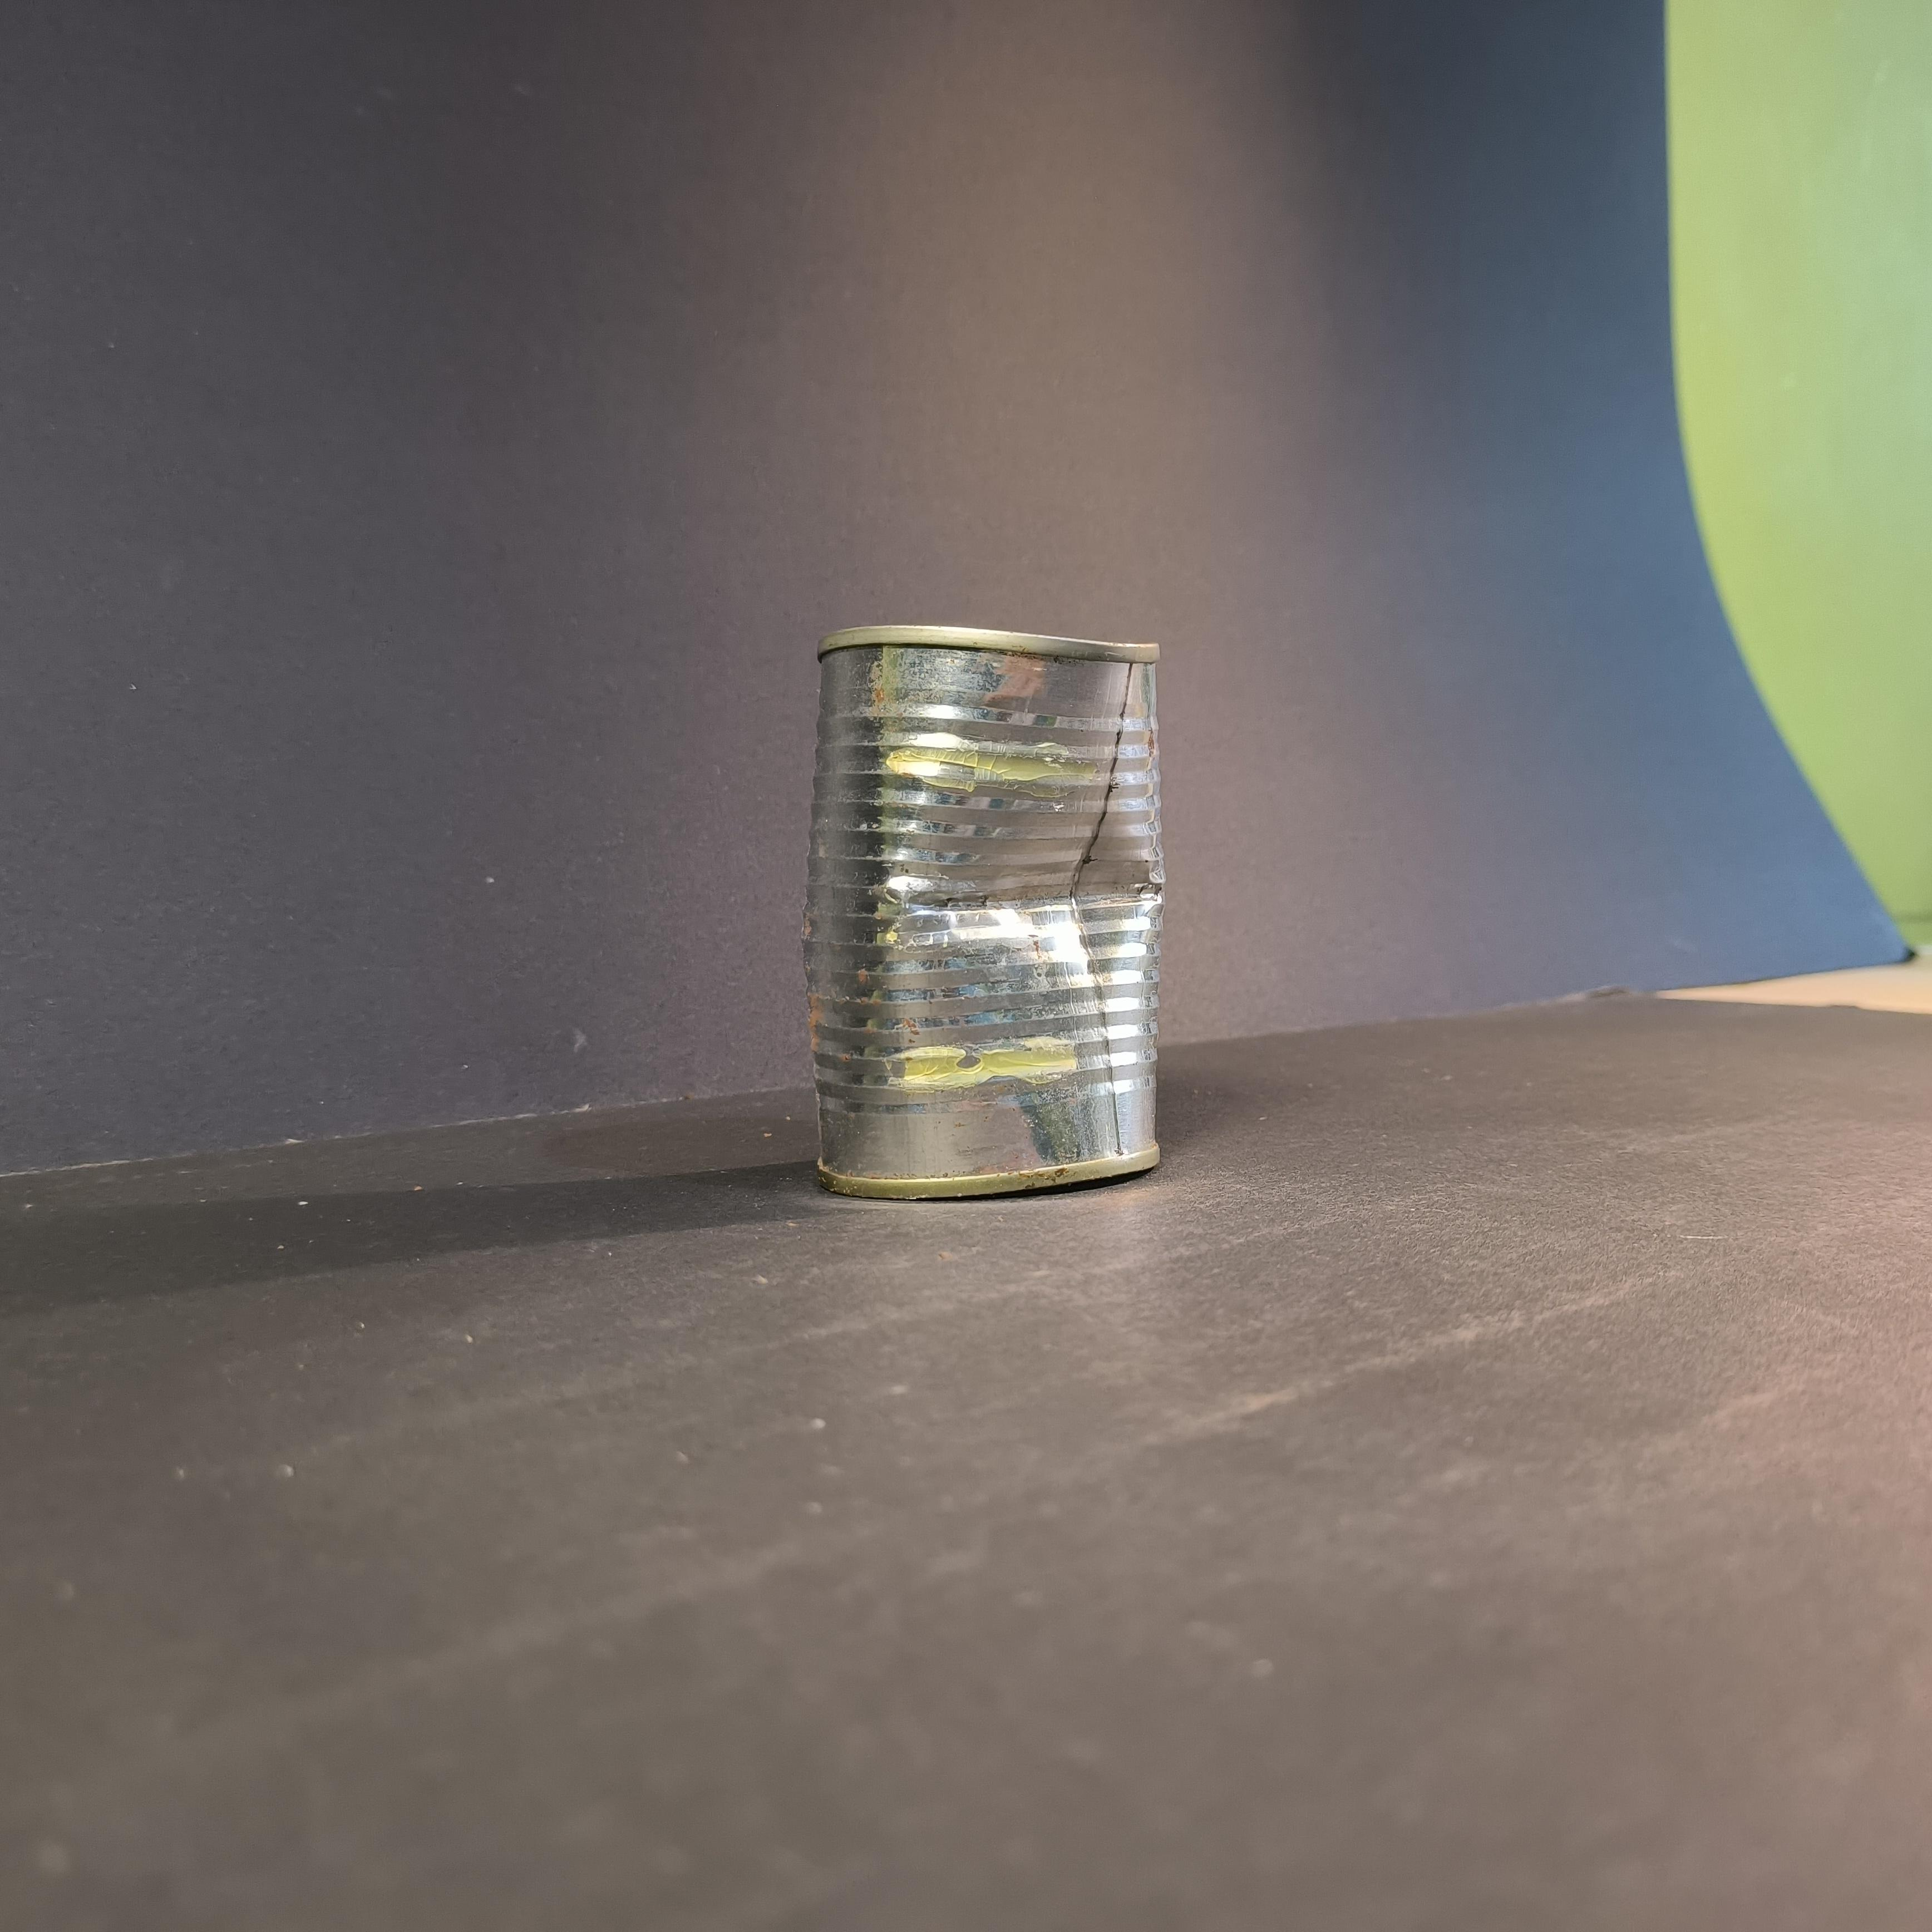Dented: (778, 589, 1200, 1221)
